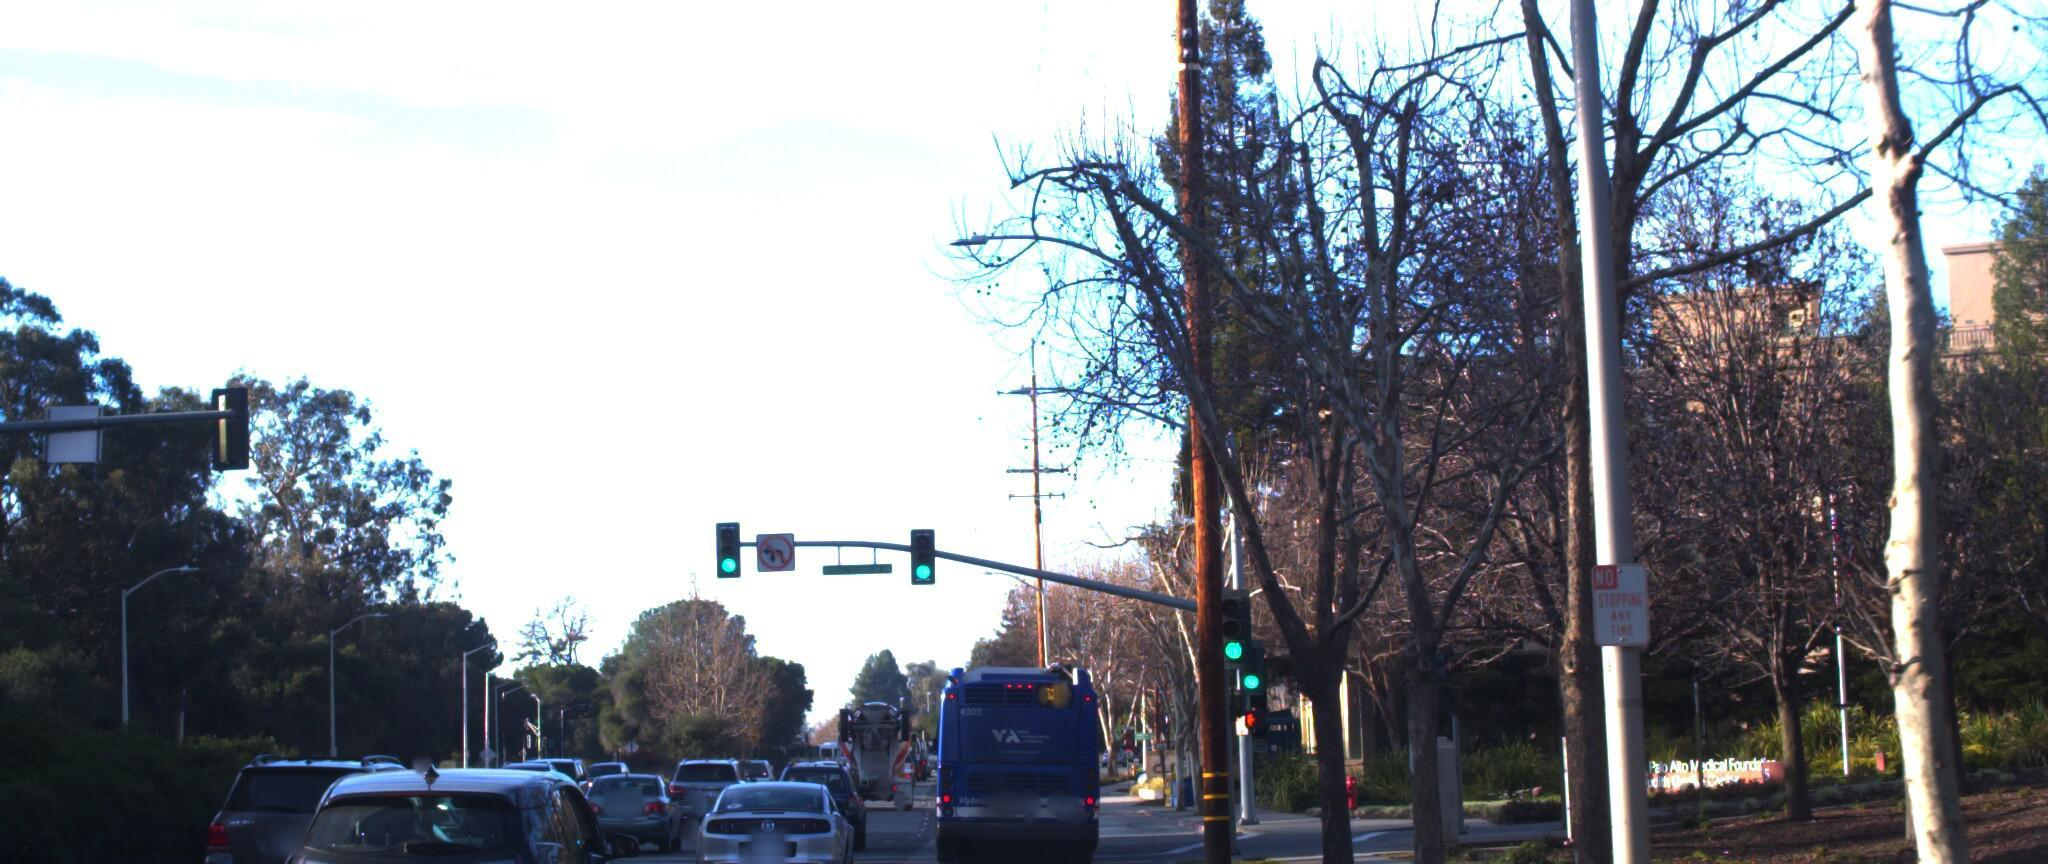bus: (927, 626, 1110, 864)
car: (238, 724, 650, 864), (184, 736, 458, 864), (680, 744, 846, 864), (573, 758, 680, 851), (765, 740, 872, 829), (670, 747, 765, 834), (714, 740, 799, 817)
